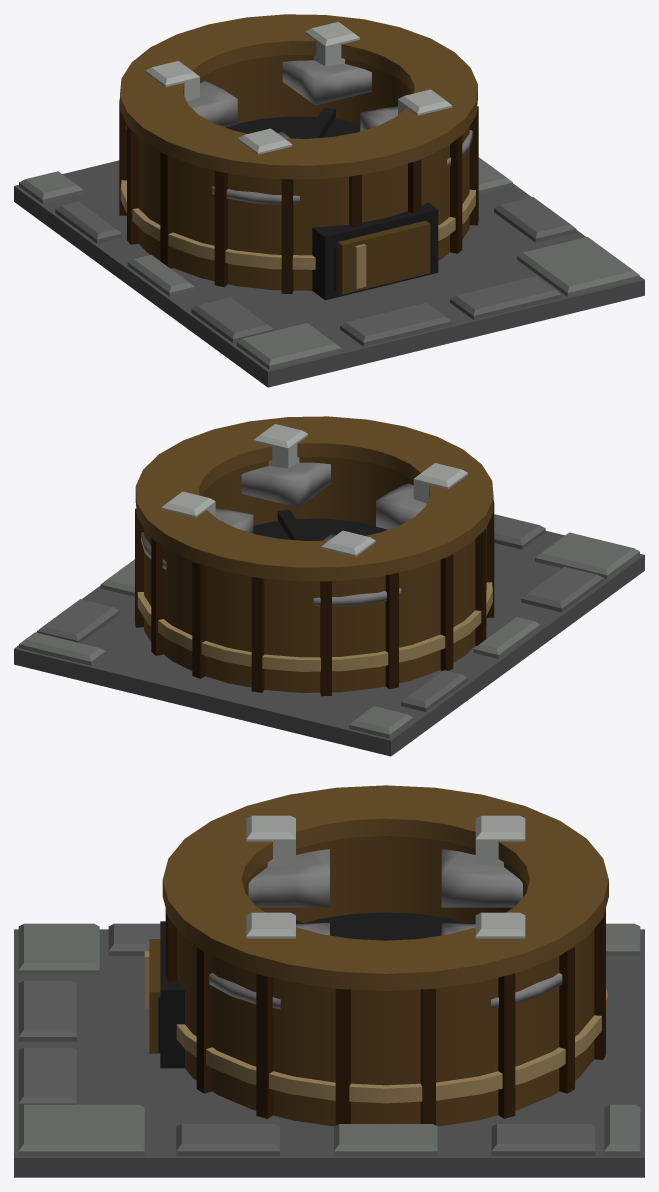
The model's file is newshd-169-f4.glb.
3 renders of one model, top to bottom at view 1: azimuth 30°, elevation 25°; view 2: azimuth 150°, elevation 25°; view 3: azimuth 270°, elevation 25°, orthographic. The views are drawn at different scales.
Visible parts, largest first — view 1: newshd-169-f4; view 2: newshd-169-f4; view 3: newshd-169-f4.
Part boxes in pixels (x1,y1,x2,y2): newshd-169-f4: (14,14,644,387); newshd-169-f4: (14,416,644,756); newshd-169-f4: (14,785,644,1177).
Size of the model in its own units: 2 by 0.76 by 2.33.
